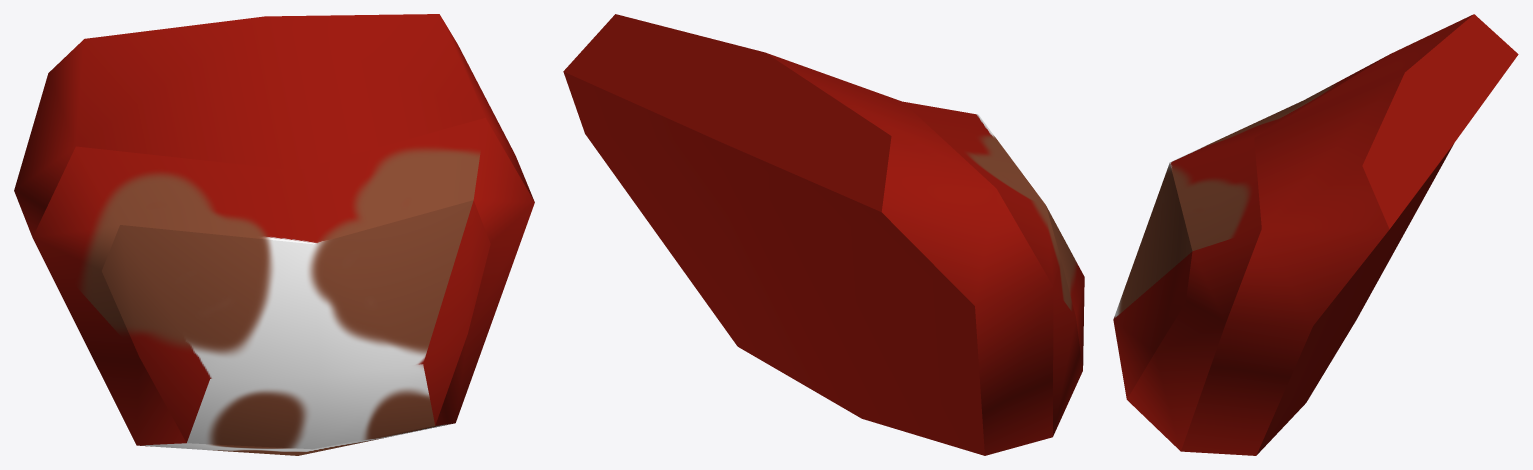
File: Light.fbx
3 views of the same model, side by side, from view 1: azimuth 30°, elevation 25°; view 2: azimuth 150°, elevation 25°; view 3: azimuth 270°, elevation 25° (orthographic). The views are drawn at different scales.
Visible parts, largest first — view 1: Light; view 2: Light; view 3: Light.
Part boxes in pixels (box(x1,y1,x2,y2)): Light: box(14, 14, 534, 455); Light: box(563, 14, 1084, 455); Light: box(1113, 14, 1518, 455).
Size of the model in its own units: 32.12 by 24.51 by 25.35.
1 material, 1 textured.
